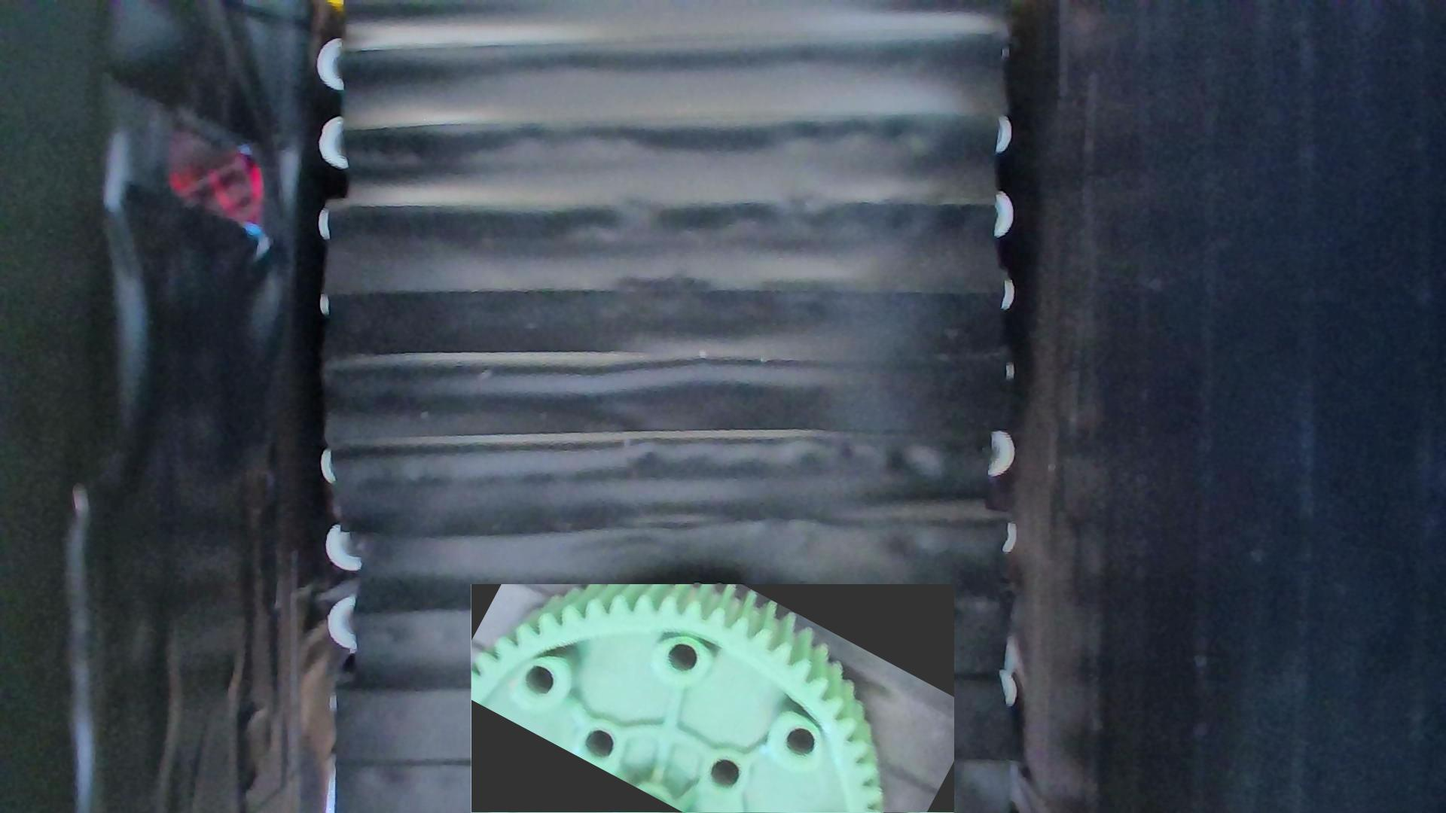gear: (471, 584, 954, 813)
